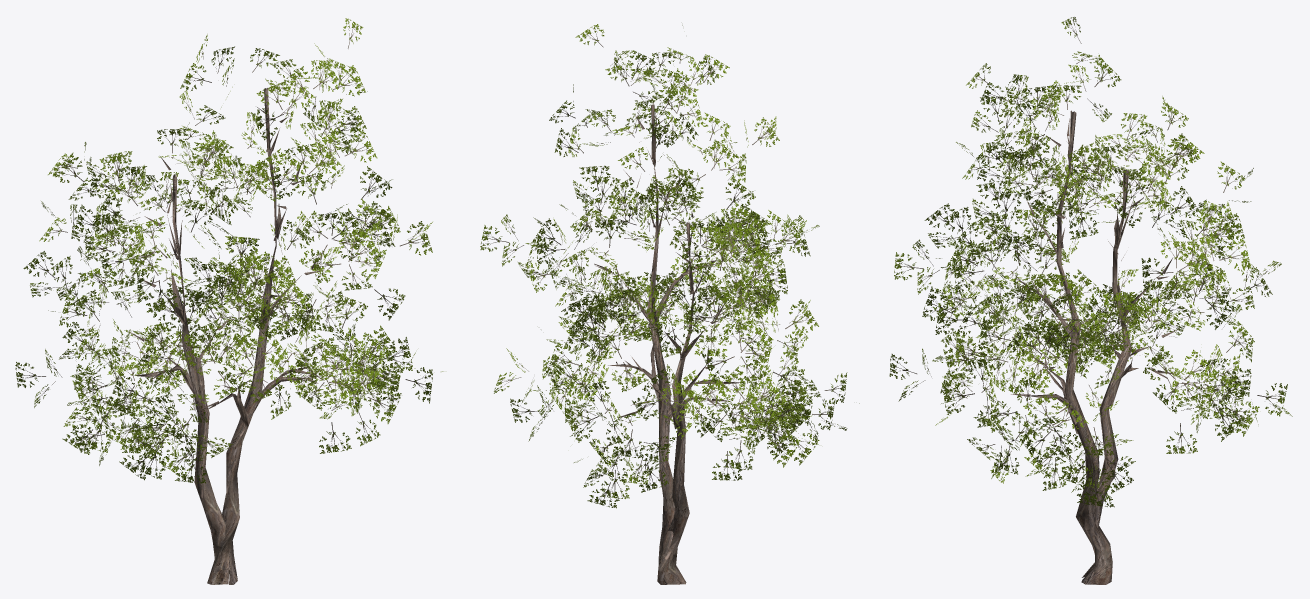
Rendered from elm_lod2.fbx.
The picture shows the model from 3 angles, left to right: view 1: azimuth 30°, elevation 25°; view 2: azimuth 150°, elevation 25°; view 3: azimuth 270°, elevation 25°; orthographic projection. The views are drawn at different scales.
Visible parts, largest first — view 1: Tree_1, Tree_0; view 2: Tree_1, Tree_0; view 3: Tree_1, Tree_0.
Boxes of the visible parts, x1,y1,x2,y2 form: Tree_1: (15,18,443,483); Tree_0: (125,88,333,584); Tree_1: (480,24,859,508); Tree_0: (594,102,739,584); Tree_1: (889,17,1292,507); Tree_0: (1011,110,1178,584).
Bounding box in the file's own units: 18.69 × 27.44 × 18.14.
Materials: 2 (2 with a texture image).
